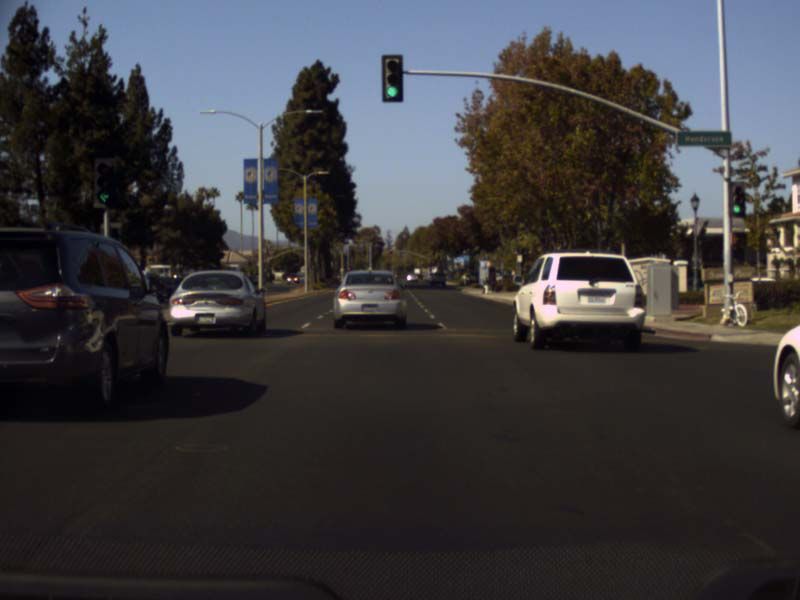Green: (94, 158, 115, 207), (382, 54, 402, 102), (729, 182, 744, 215)
